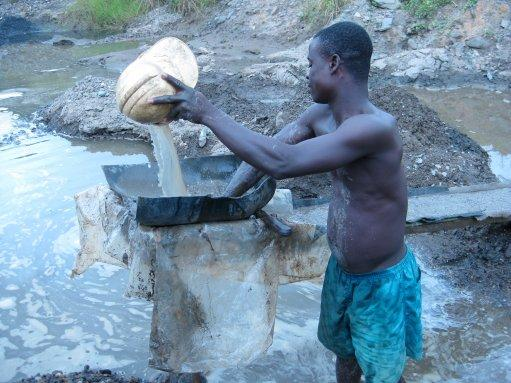MiningTool: (112, 37, 199, 125)
Person: (144, 20, 428, 383)
ProcessingEquipment: (65, 147, 511, 377)
